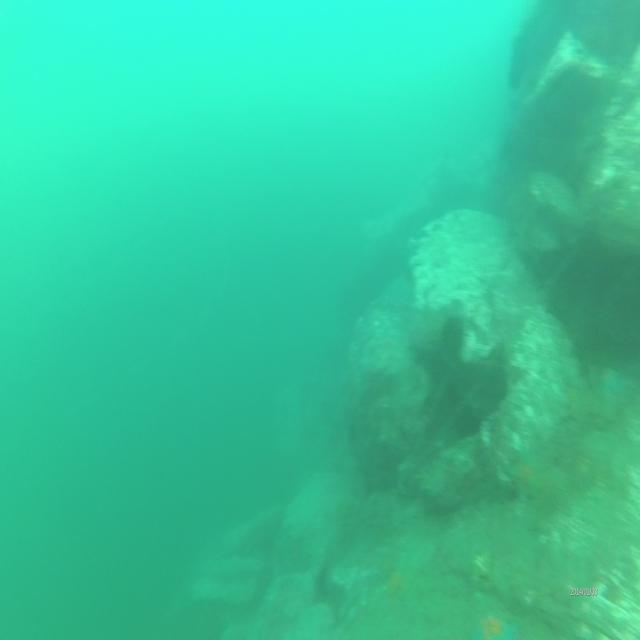echinus: (562, 441, 609, 493), (432, 307, 468, 359), (536, 468, 569, 521)
starfish: (508, 444, 548, 510), (470, 601, 521, 640), (592, 359, 630, 411), (378, 562, 413, 608)
